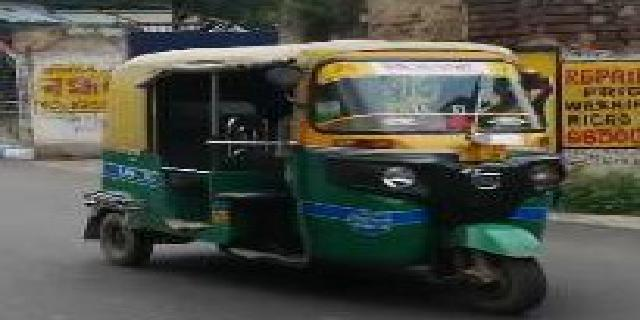Autorickshaw: (78, 37, 556, 308)
